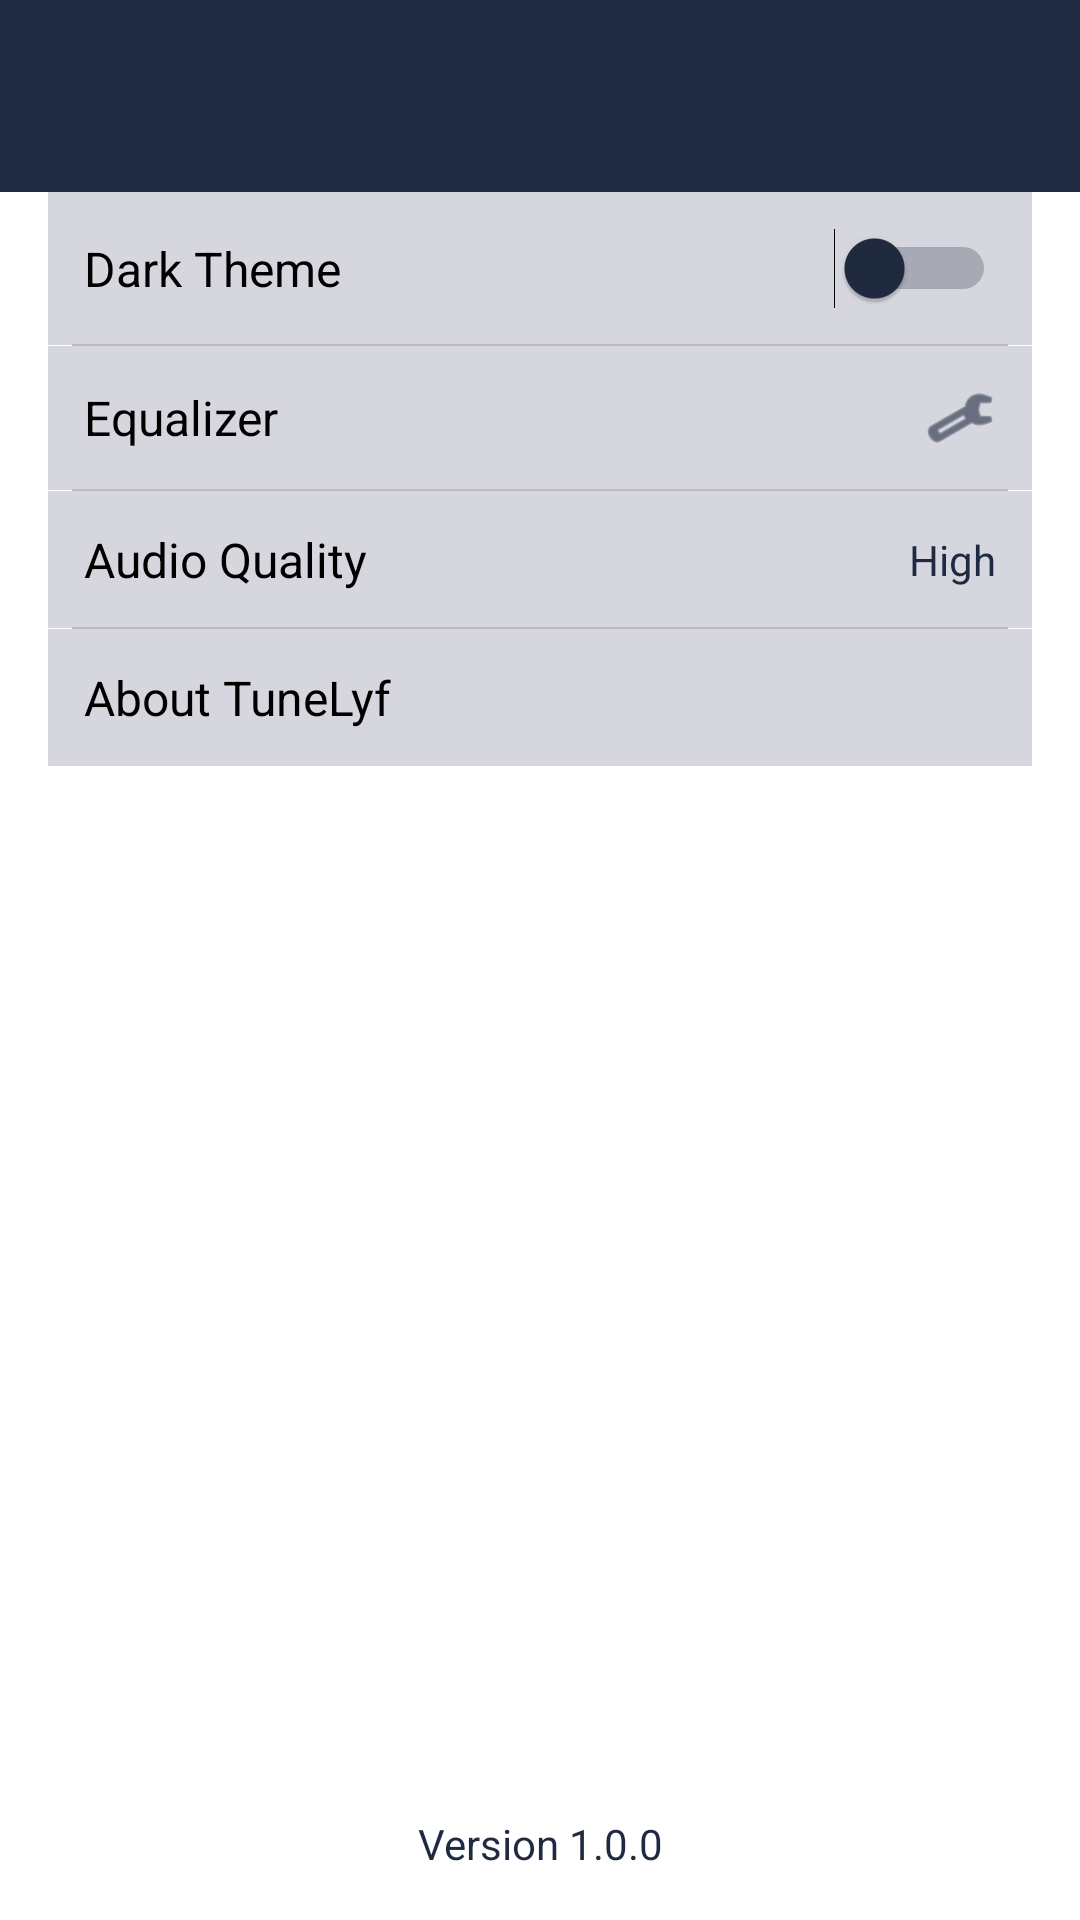

Locate icon controls on the screen. Image size 1080*1920, boxes as box(x1, y1, x2, y2).
manage: box(928, 393, 992, 443)
